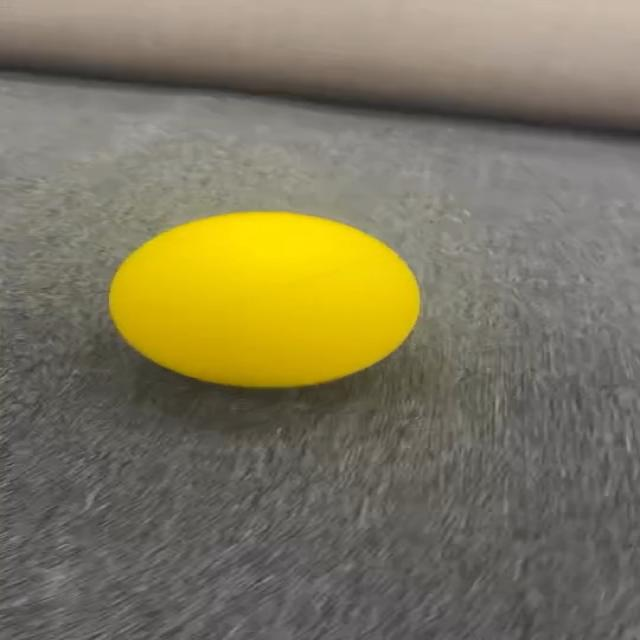Fuels: (111, 212, 418, 386)
